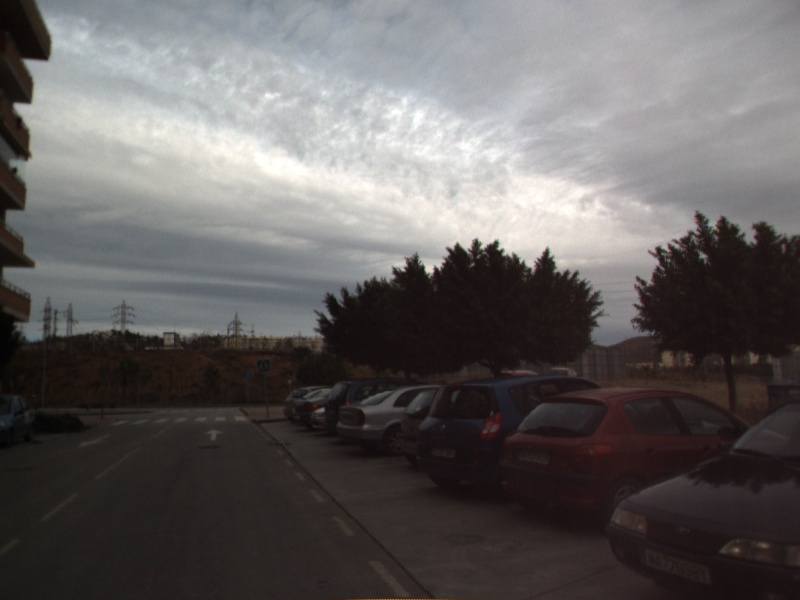STRAIGHT: (203, 427, 227, 442)
